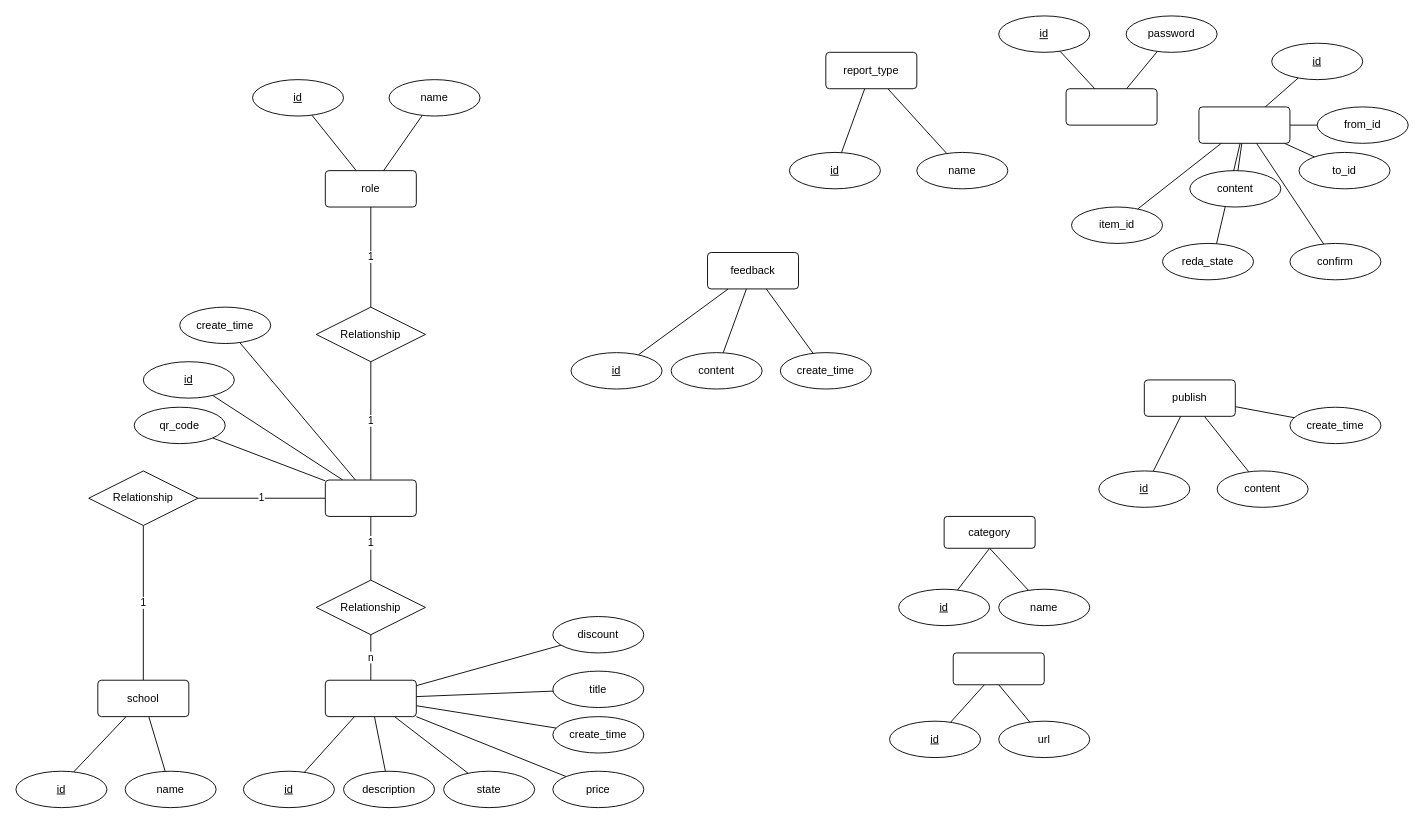
Image size: 1424x824. Some labels were removed from this diagram. Each missing label, with the box of its shape:
admin: (1065, 88, 1157, 125)
item: (324, 679, 416, 717)
picture: (952, 652, 1044, 685)
report: (1198, 106, 1290, 143)
user: (324, 479, 416, 516)
